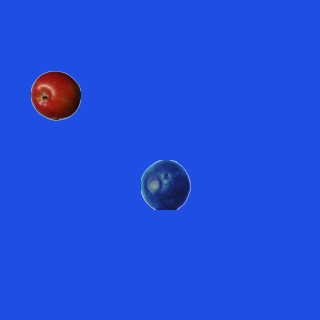Apple Braeburn: (30, 70, 80, 120)
Huckleberry: (140, 159, 190, 209)
